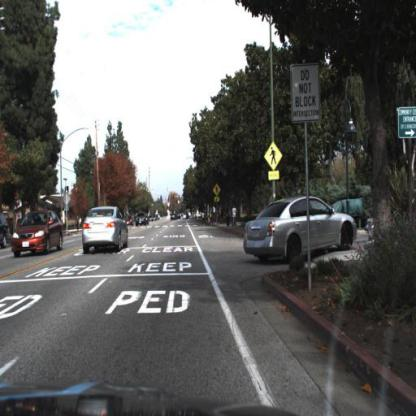car: (242, 191, 362, 266), (11, 210, 65, 259), (82, 204, 130, 254), (135, 210, 150, 229)
